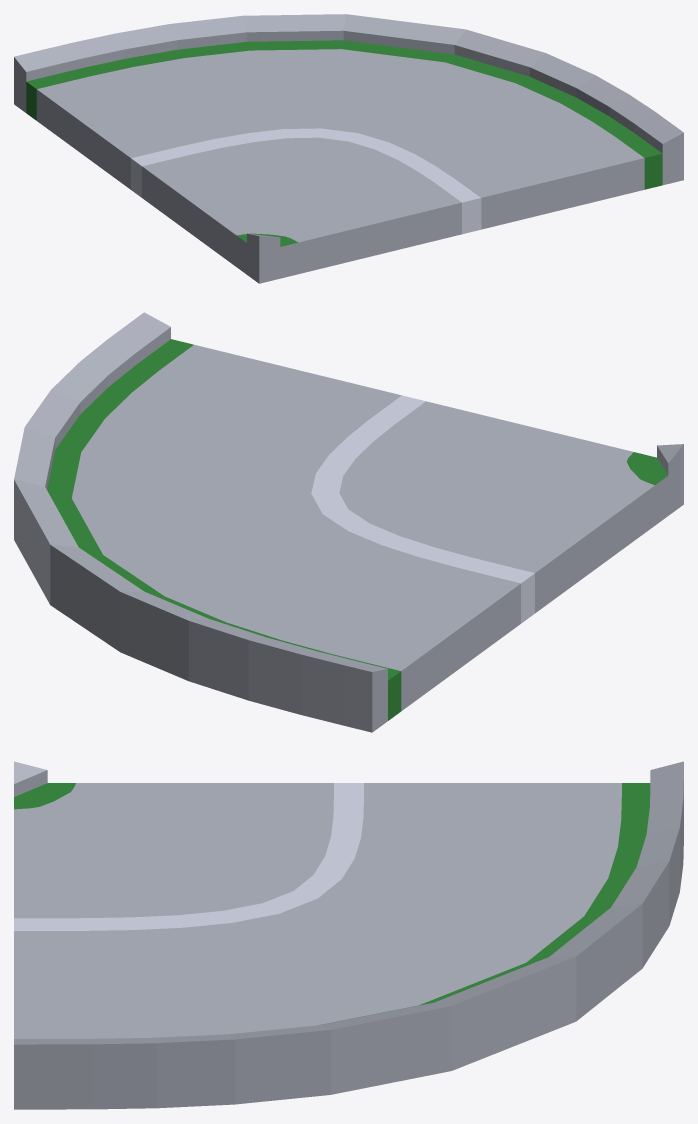
The model's file is sharp_turn.glb.
3 renders of one model, top to bottom at view 1: azimuth 30°, elevation 25°; view 2: azimuth 150°, elevation 25°; view 3: azimuth 270°, elevation 25°, orthographic. The views are drawn at different scales.
Visible parts, largest first — view 1: sharp_turn; view 2: sharp_turn; view 3: sharp_turn.
Part boxes in pixels (x1,y1,x2,y2): sharp_turn: (14, 14, 683, 283); sharp_turn: (14, 312, 683, 732); sharp_turn: (14, 761, 683, 1109).
Size of the model in its own units: 14 by 1.5 by 14.
